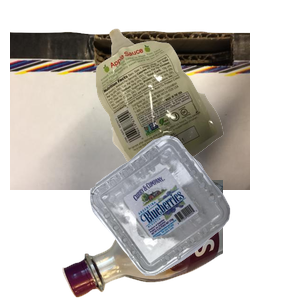cardboard: (10, 29, 250, 209)
glass: (60, 180, 300, 300)
plastic: (88, 133, 300, 300)
trash: (93, 26, 300, 200)
